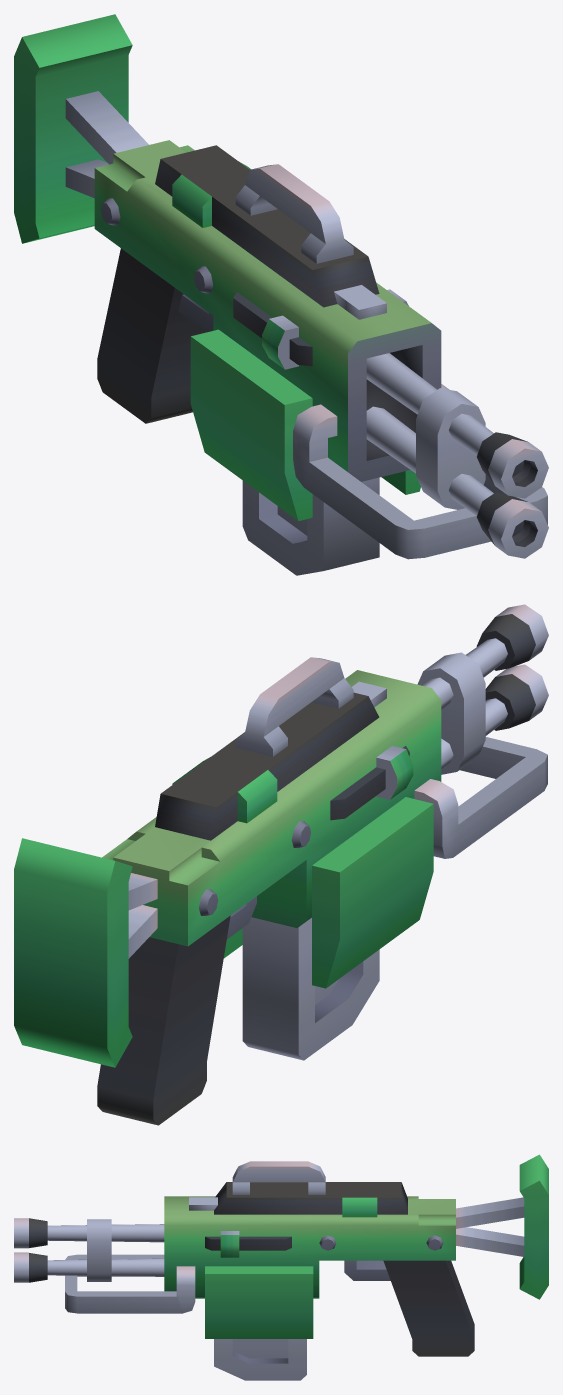
3 renders of one model, top to bottom at view 1: azimuth 30°, elevation 25°; view 2: azimuth 150°, elevation 25°; view 3: azimuth 270°, elevation 25°, orthographic. The views are drawn at different scales.
Visible parts, largest first — view 1: blaster-p; view 2: blaster-p; view 3: blaster-p.
Boxes of the visible parts, bbox=[...] form: blaster-p: bbox=[14, 14, 548, 575]; blaster-p: bbox=[14, 604, 548, 1125]; blaster-p: bbox=[14, 1154, 548, 1380].
Bounding box in the file's own units: 0.1522 × 0.3528 × 0.82.
Materials: 1 (1 with a texture image).
